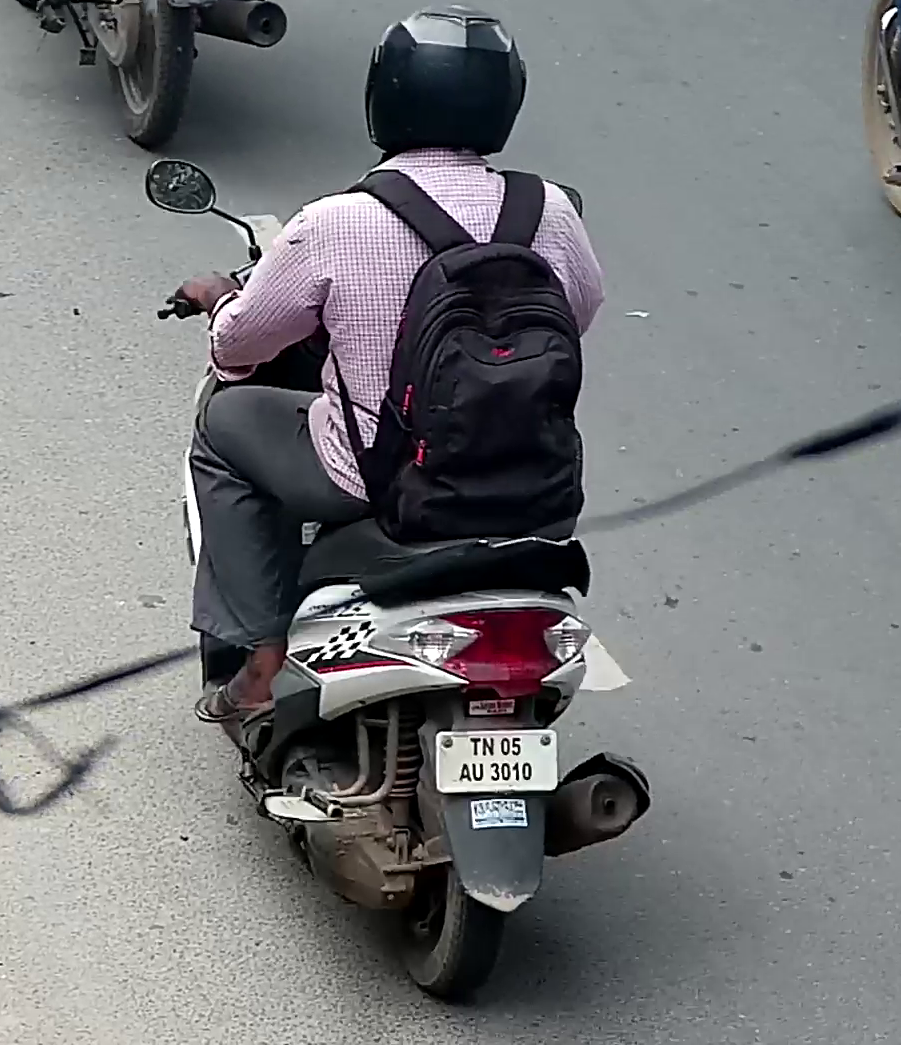0: (521, 762, 532, 781), (501, 762, 511, 781), (500, 737, 510, 755)
1: (511, 761, 520, 781)
3: (490, 762, 500, 781)
5: (511, 736, 521, 756)
A: (458, 763, 472, 783)
N: (481, 737, 494, 756)
P16: (433, 727, 559, 796)
T: (470, 737, 481, 756)
U: (472, 763, 484, 781)
